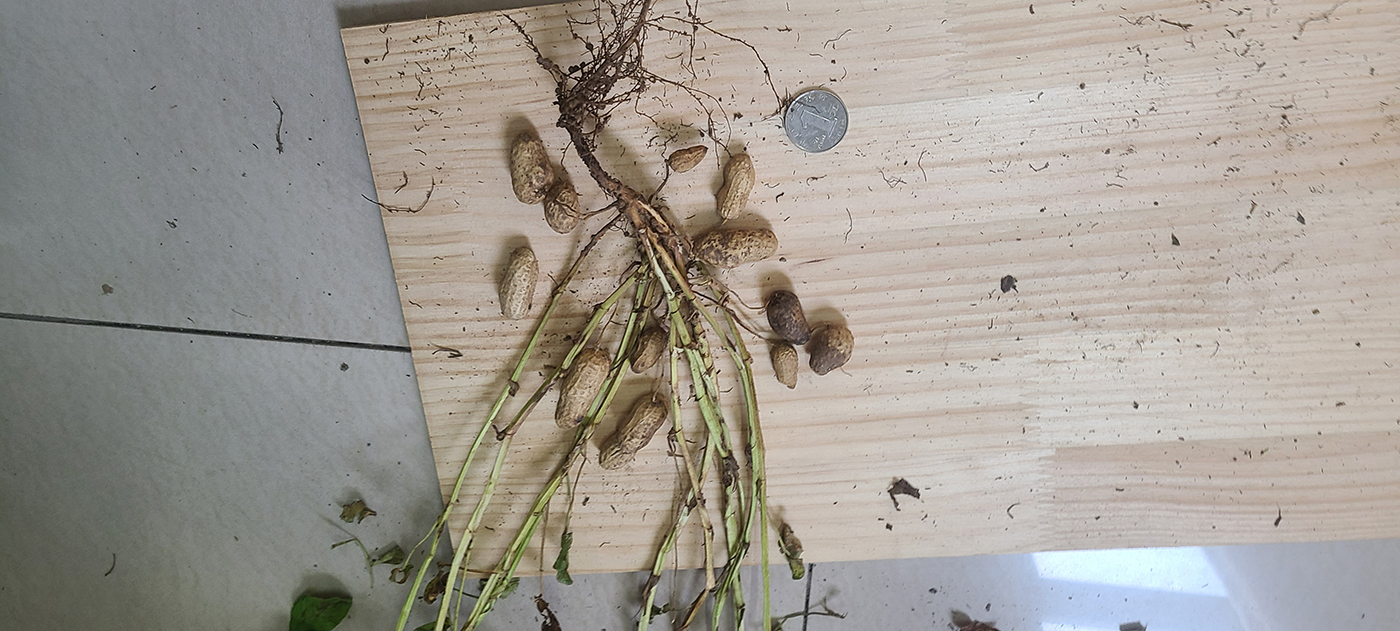h: (600, 394, 667, 468), (553, 348, 612, 427), (508, 133, 556, 203), (694, 228, 780, 267), (500, 246, 540, 322), (715, 153, 754, 217), (630, 321, 668, 375), (544, 185, 580, 237), (772, 345, 800, 390)
l: (765, 288, 811, 343), (810, 328, 853, 376)
